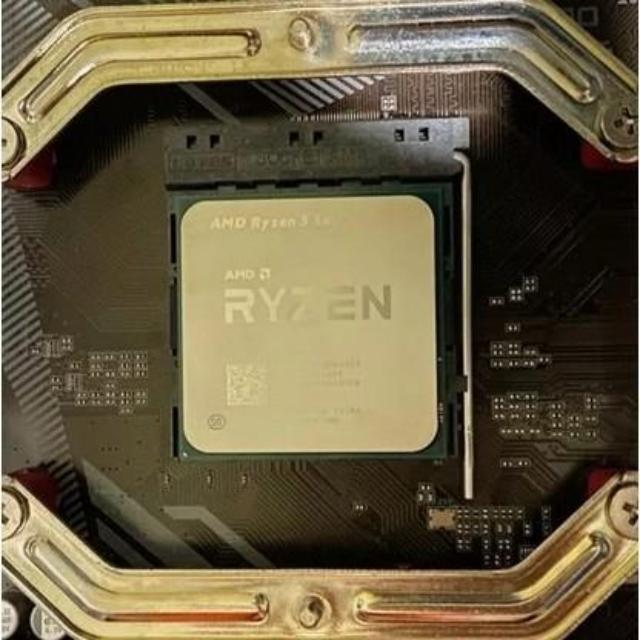CPU: (174, 200, 451, 455)
